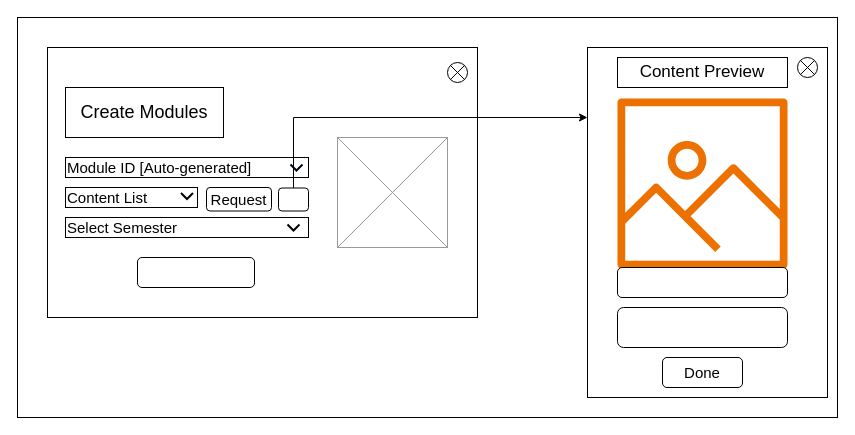
This 855x435 diagram has some shape labels left out. The box of each missing label's shape, as (x1, y1, x2, y2) in pixels:
Add: (278, 187, 308, 211)
Add Lecture / Notes: (616, 306, 788, 348)
Add media [Preview]: (616, 266, 788, 298)
Confirm: (136, 256, 254, 288)
